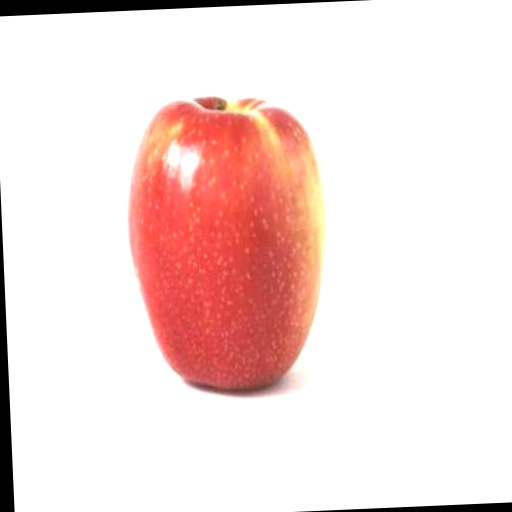fruit: (128, 97, 325, 389)
